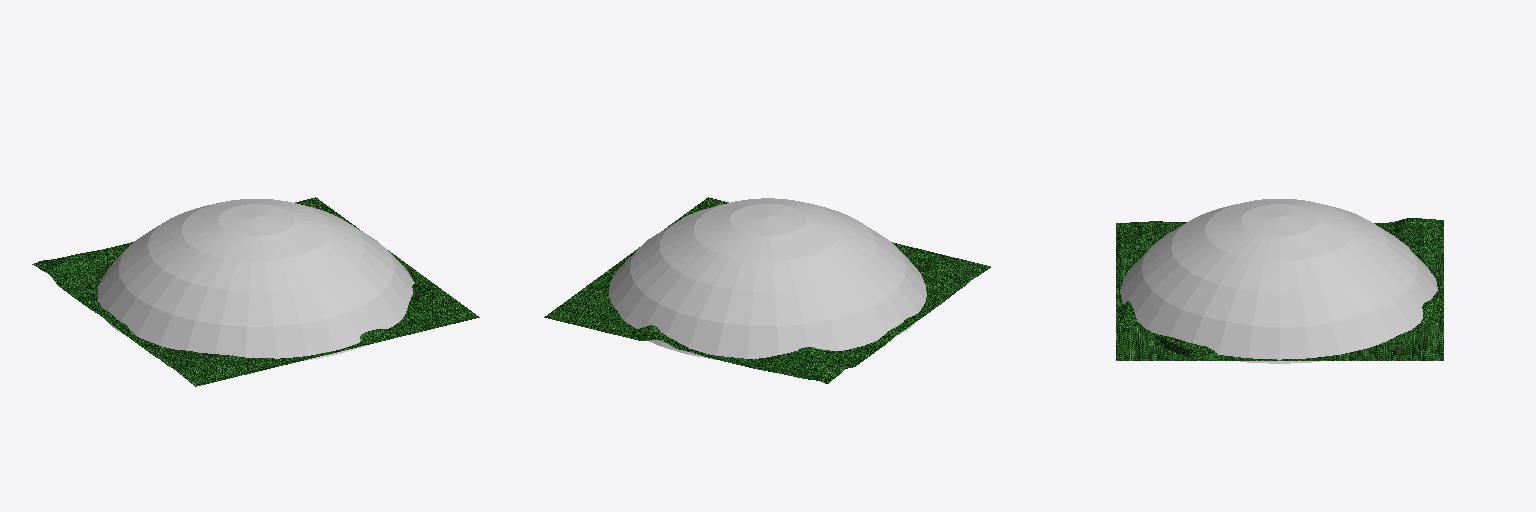
3 renders of one model, left to right at view 1: azimuth 30°, elevation 25°; view 2: azimuth 150°, elevation 25°; view 3: azimuth 270°, elevation 25°, orthographic.
Visible parts, largest first — view 1: Sphere_Sphere.001, Plane; view 2: Sphere_Sphere.001, Plane; view 3: Sphere_Sphere.001, Plane.
Boxes of the visible parts, x1,y1,x2,y2 form: Sphere_Sphere.001: [98, 199, 414, 360]; Plane: [32, 197, 479, 386]; Sphere_Sphere.001: [609, 198, 926, 359]; Plane: [544, 197, 990, 383]; Sphere_Sphere.001: [1120, 199, 1437, 363]; Plane: [1116, 218, 1443, 360].
Size of the model in its own units: 330 by 87.46 by 330.
Materials: 10 (3 with a texture image).